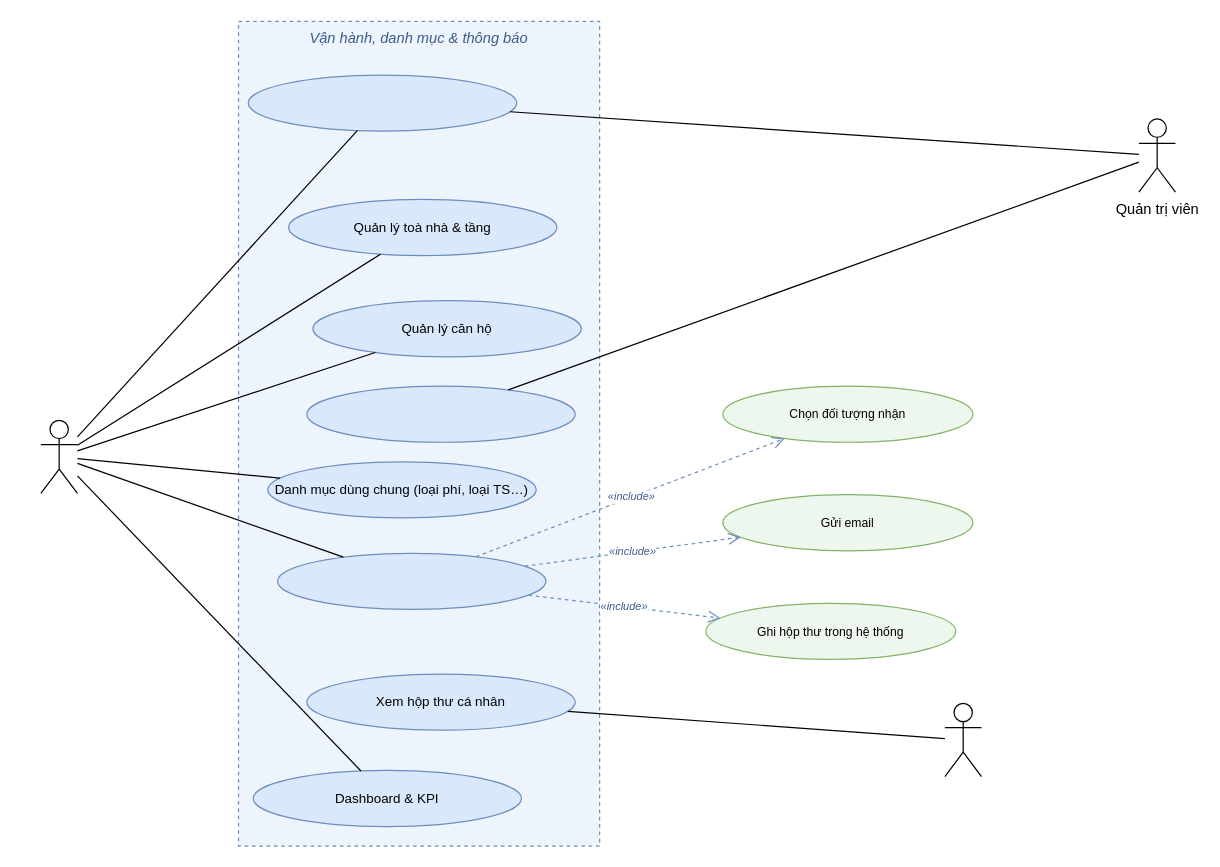
The diagram is 1220 pixels wide and 867 high, and some of its shapes have lost their labels. Each missing label, with the centre of its shape:
Ban quản lý: [58,456]
Cư dân: [962,739]
Cấu hình hệ thống (tham số): [382,102]
Soạn & gửi thông báo: [411,580]
Tra cứu nhật ký hoạt động (Audit log): [440,413]
